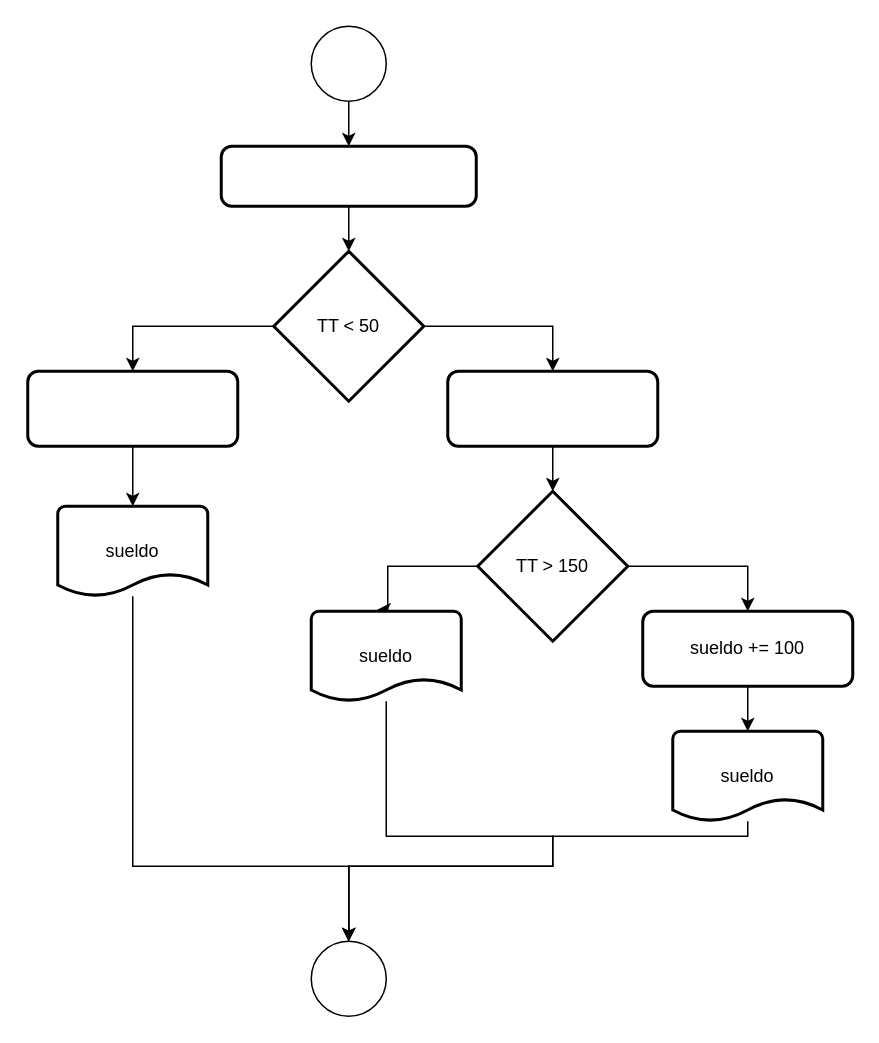
The diagram is 879 pixels wide and 1043 high, and some of its shapes have lost their labels. The centre of each missing label's shape, as x and y in pixels:
"ingreso VH, TT" belongs at pixel 348 175.
"sueldo = (TT * VH) + 100" belongs at pixel 552 408.
"sueldo = TT * VH" belongs at pixel 132 408.
